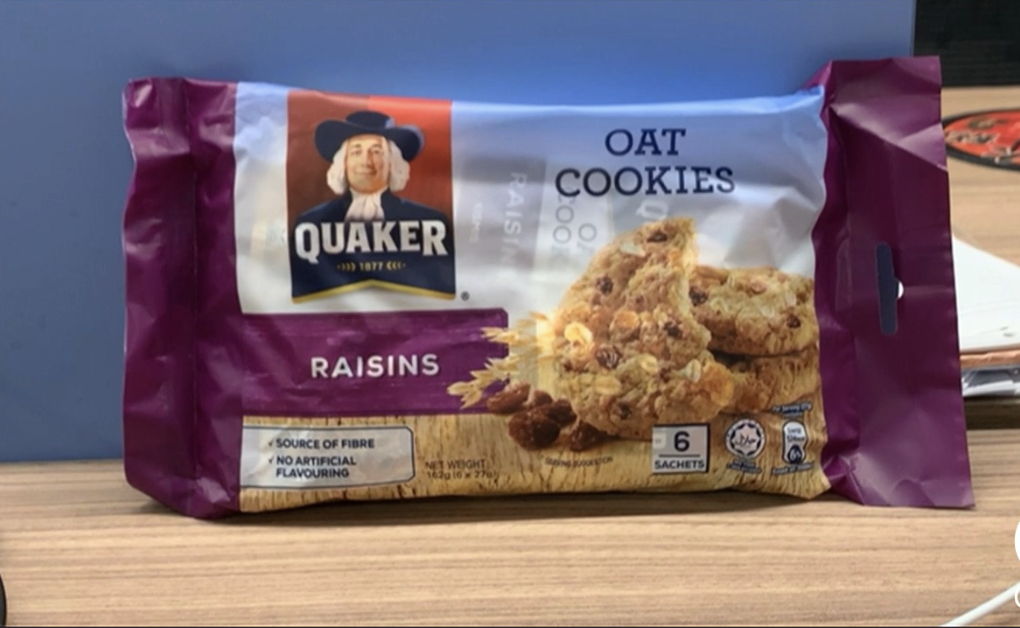cookies_100g-199g: (209, 116, 836, 488)
